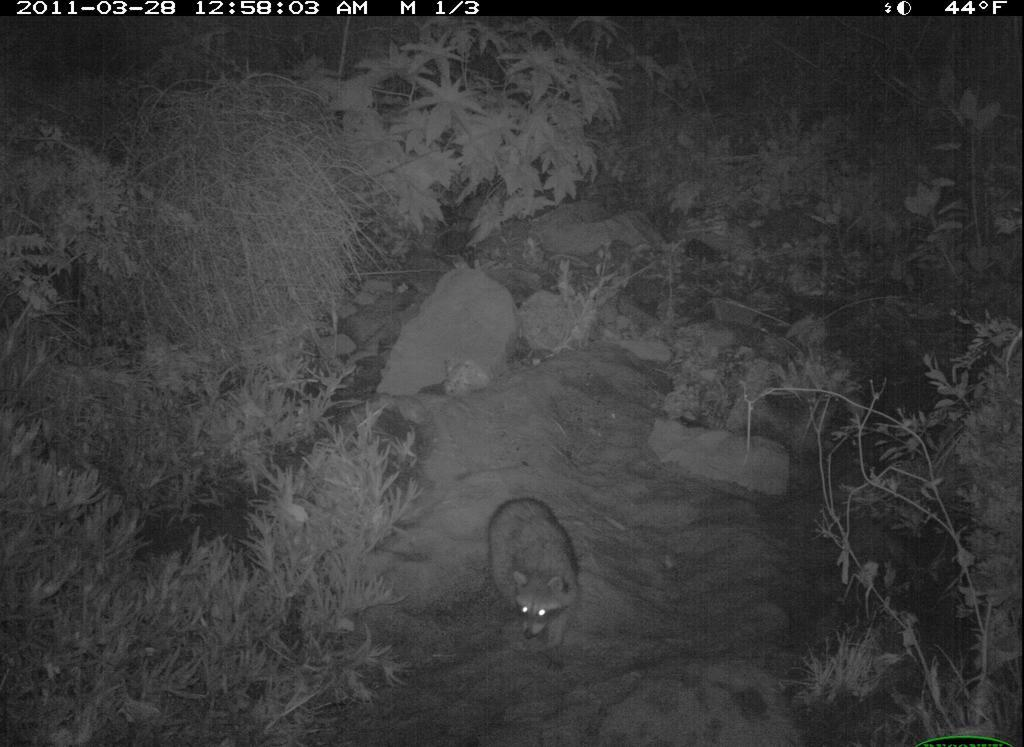raccoon: (482, 487, 592, 683)
